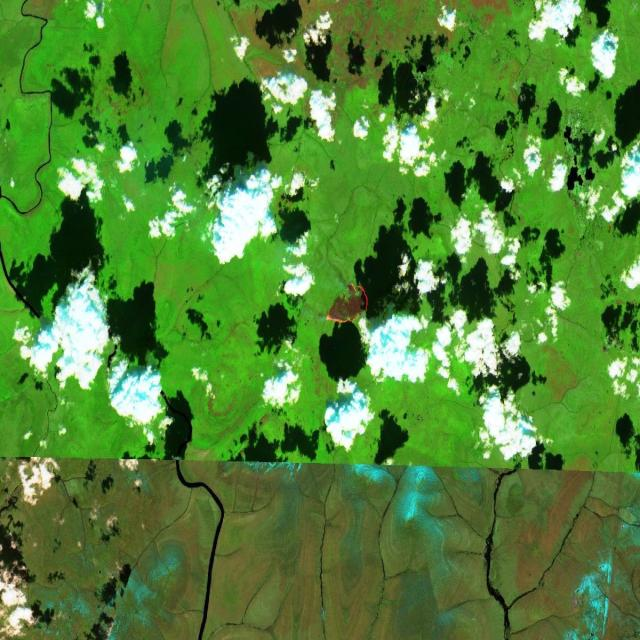fire: (319, 277, 372, 330)
